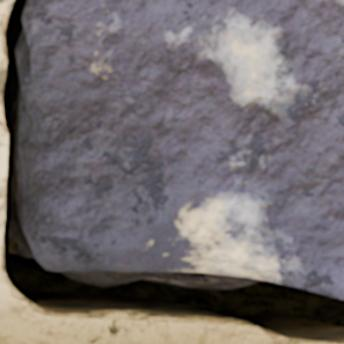brick: (17, 0, 343, 298)
crack: (1, 0, 343, 343)
